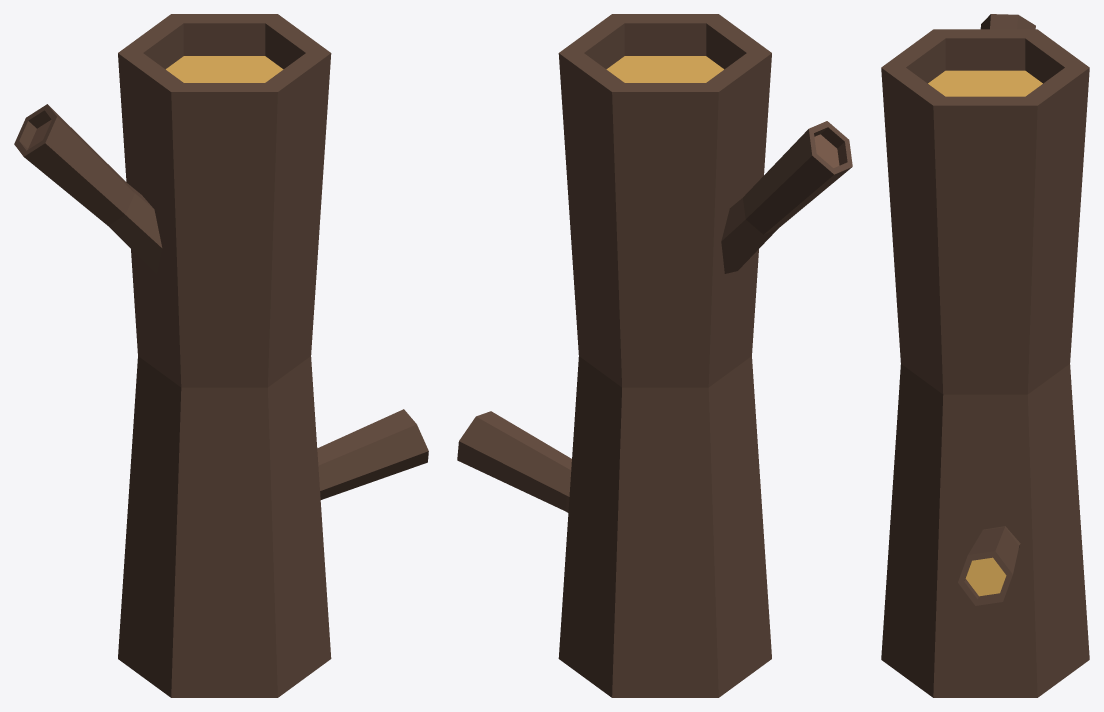
File: Mesh_Log_TwoBranch.glb
3 views of the same model, side by side, from view 1: azimuth 30°, elevation 25°; view 2: azimuth 150°, elevation 25°; view 3: azimuth 270°, elevation 25° (orthographic). The views are drawn at different scales.
Visible parts, largest first — view 1: Mesh_Log_TwoBranch; view 2: Mesh_Log_TwoBranch; view 3: Mesh_Log_TwoBranch.
Part boxes in pixels (left/top/right/bottom): Mesh_Log_TwoBranch: left=14, top=14, right=428, bottom=697; Mesh_Log_TwoBranch: left=457, top=14, right=852, bottom=697; Mesh_Log_TwoBranch: left=881, top=14, right=1089, bottom=697.
Size of the model in its own units: 0.3366 by 0.4953 by 0.1581.
1 material, 1 textured.
